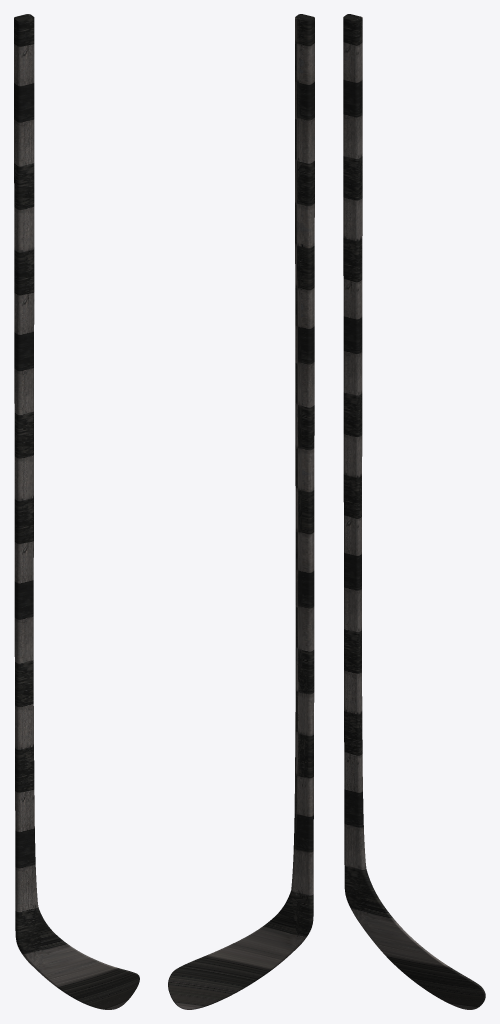
3 renders of one model, left to right at view 1: azimuth 30°, elevation 25°; view 2: azimuth 150°, elevation 25°; view 3: azimuth 330°, elevation 25°, orthographic. The views are drawn at different scales.
Parts seen in each view (by area): view 1: geometry_0; view 2: geometry_0; view 3: geometry_0.
Part boxes in pixels (x1=…): geometry_0: x1=14, y1=14, x2=139, y2=1009; geometry_0: x1=168, y1=14, x2=314, y2=1009; geometry_0: x1=343, y1=14, x2=485, y2=1009.
Size of the model in its own units: 227 by 1650 by 53.59.
1 material, 1 textured.
